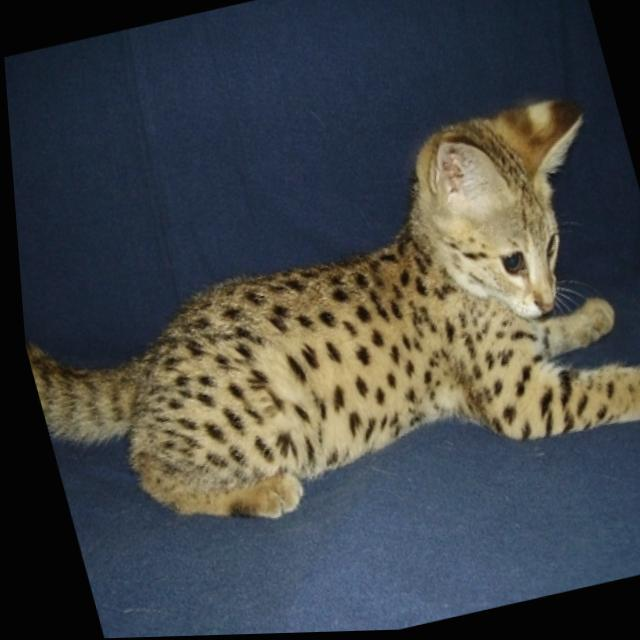Egyptian Mau: (6, 81, 640, 569)
